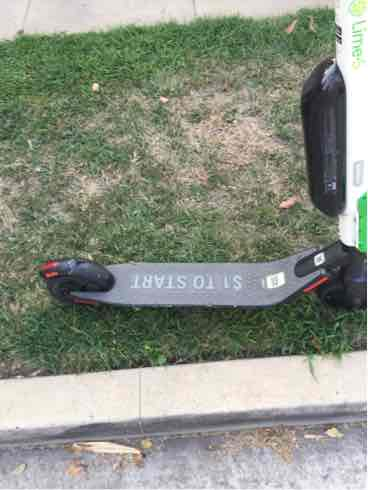scooter: (22, 5, 368, 306)
